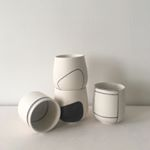cups: (15, 88, 62, 134), (91, 78, 131, 129), (50, 52, 90, 92)
